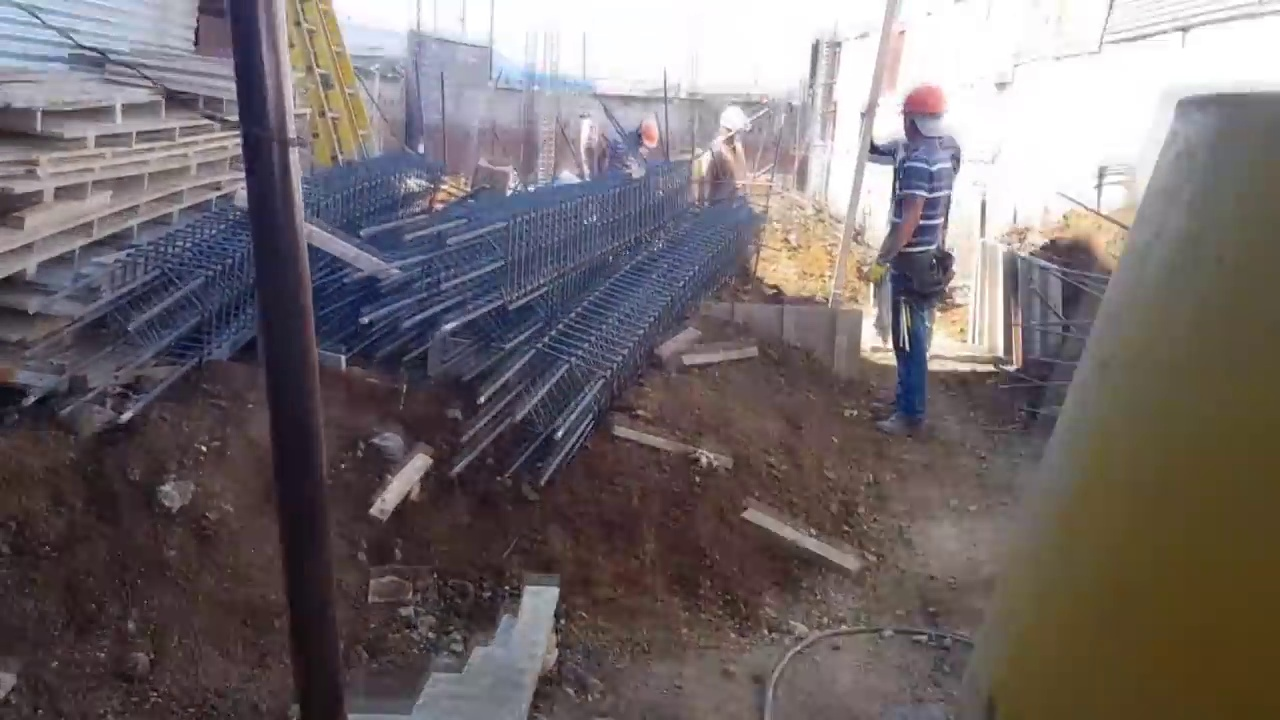helmet: (899, 81, 951, 116), (719, 105, 751, 133), (639, 116, 663, 148)
helmet-off: (577, 108, 591, 122)
helmet-on: (898, 83, 952, 147), (715, 105, 753, 149), (634, 115, 663, 150)
person: (873, 82, 967, 442), (701, 105, 754, 207), (608, 114, 663, 177), (576, 106, 600, 186)
